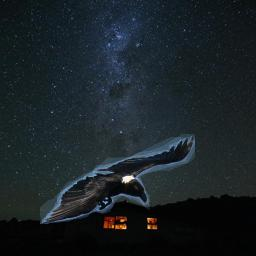Crow: (40, 134, 195, 224)
